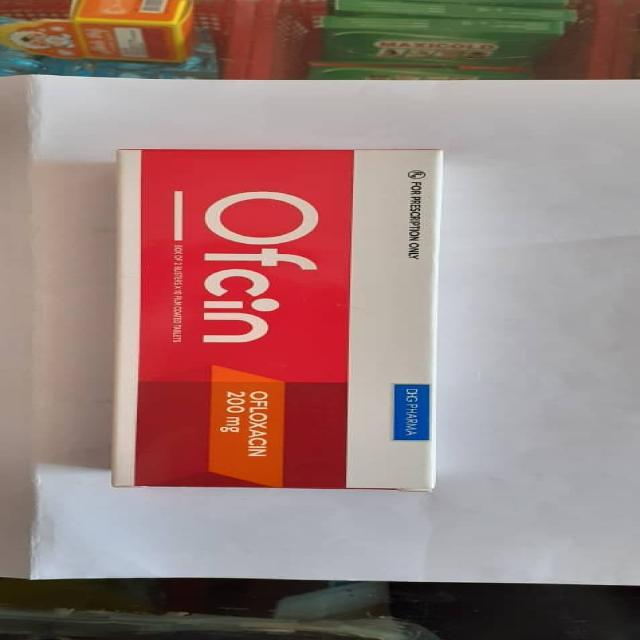drug-name: (200, 184, 320, 344)
